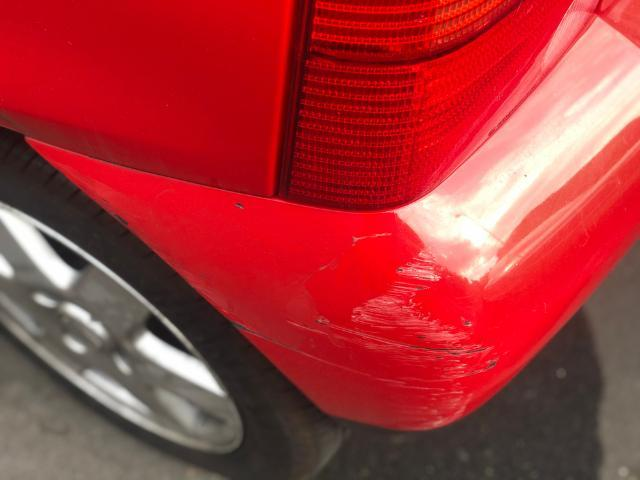rub: (232, 243, 500, 429)
